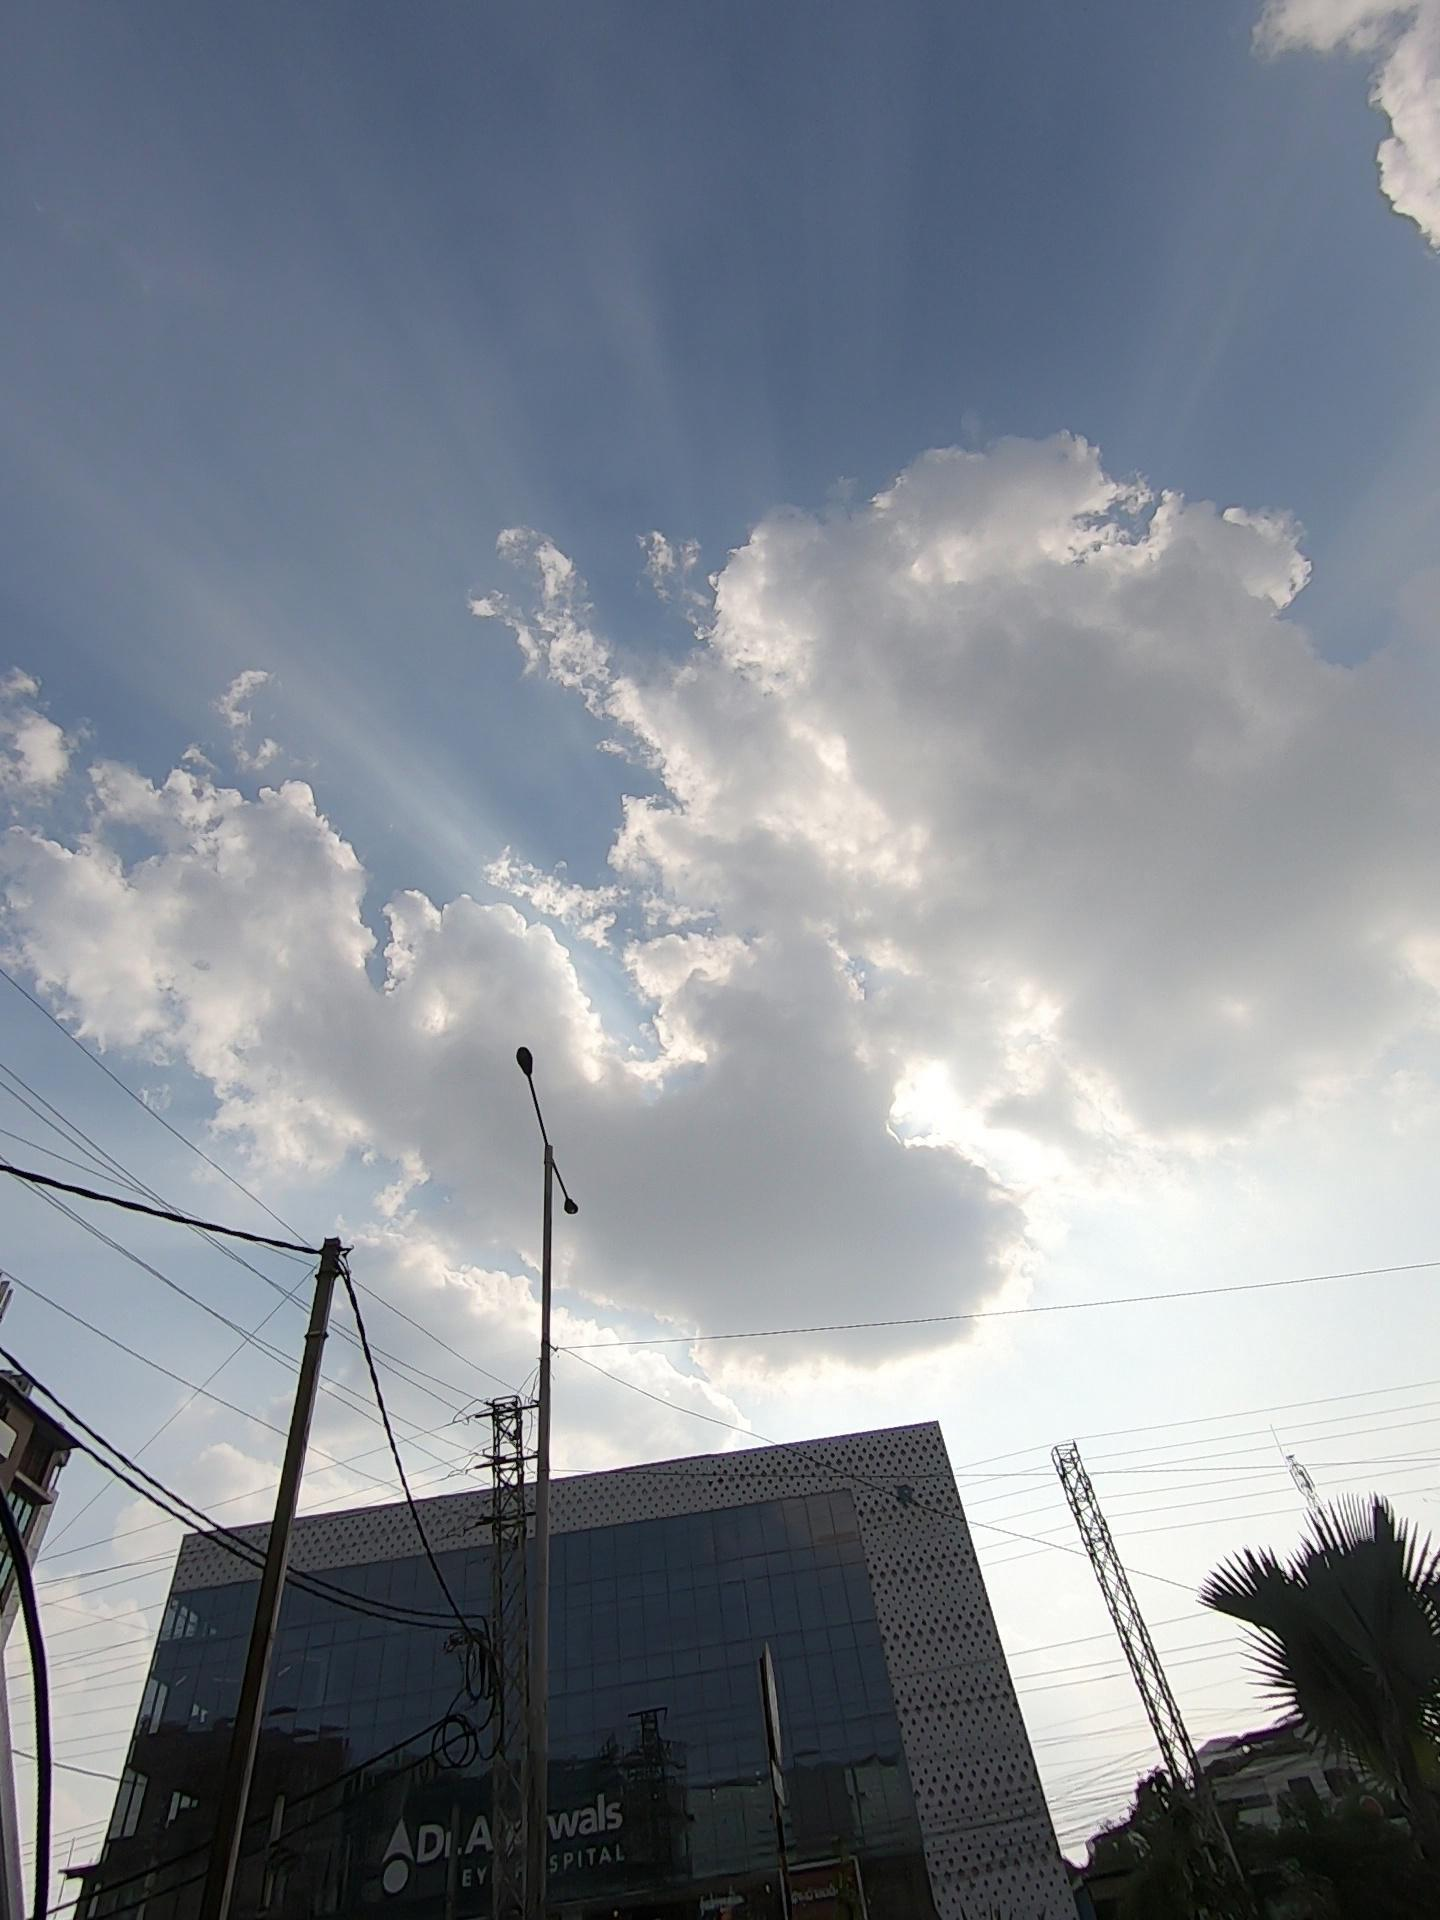off: (460, 992, 643, 1259)
